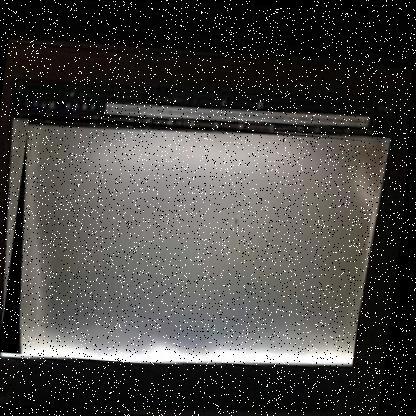fade: (1, 115, 384, 381)
